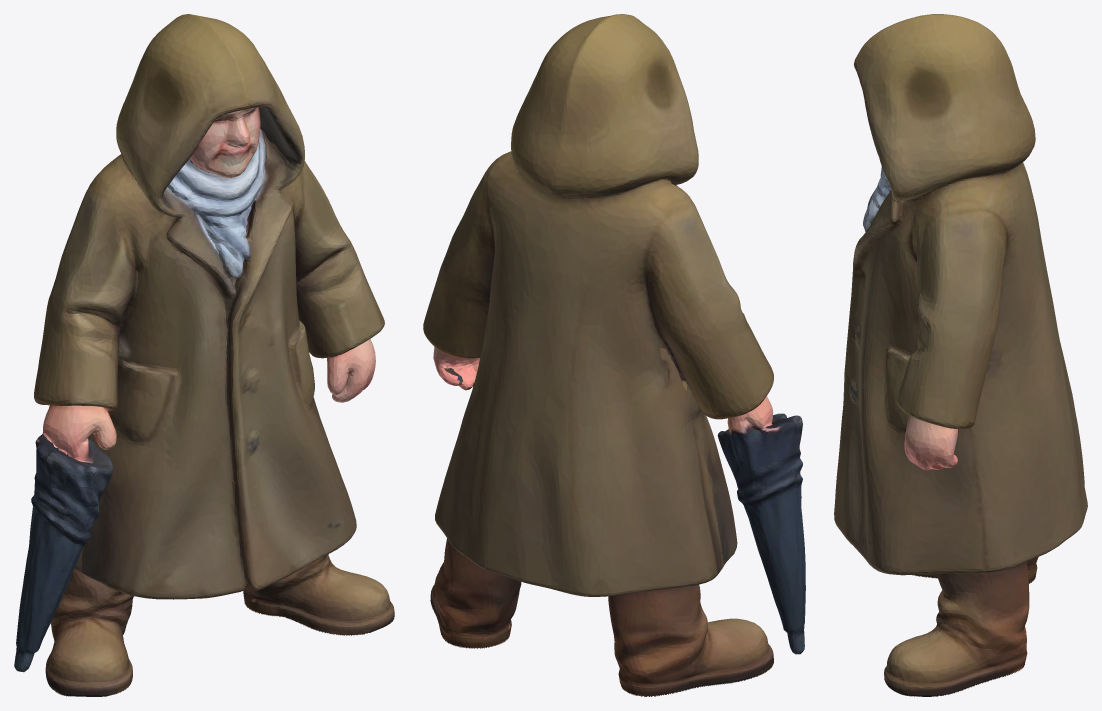
The model's file is civilian-c.glb.
The picture shows the model from 3 angles, left to right: view 1: azimuth 30°, elevation 25°; view 2: azimuth 150°, elevation 25°; view 3: azimuth 270°, elevation 25°; orthographic projection. The views are drawn at different scales.
Visible parts, largest first — view 1: figure; view 2: figure; view 3: figure.
Part boxes in pixels (x1=…): figure: x1=14, y1=14, x2=394, y2=696; figure: x1=423, y1=14, x2=805, y2=696; figure: x1=834, y1=14, x2=1087, y2=696.
Size of the model in its own units: 1.06 by 1.7 by 0.6511.
1 material, 1 textured.
